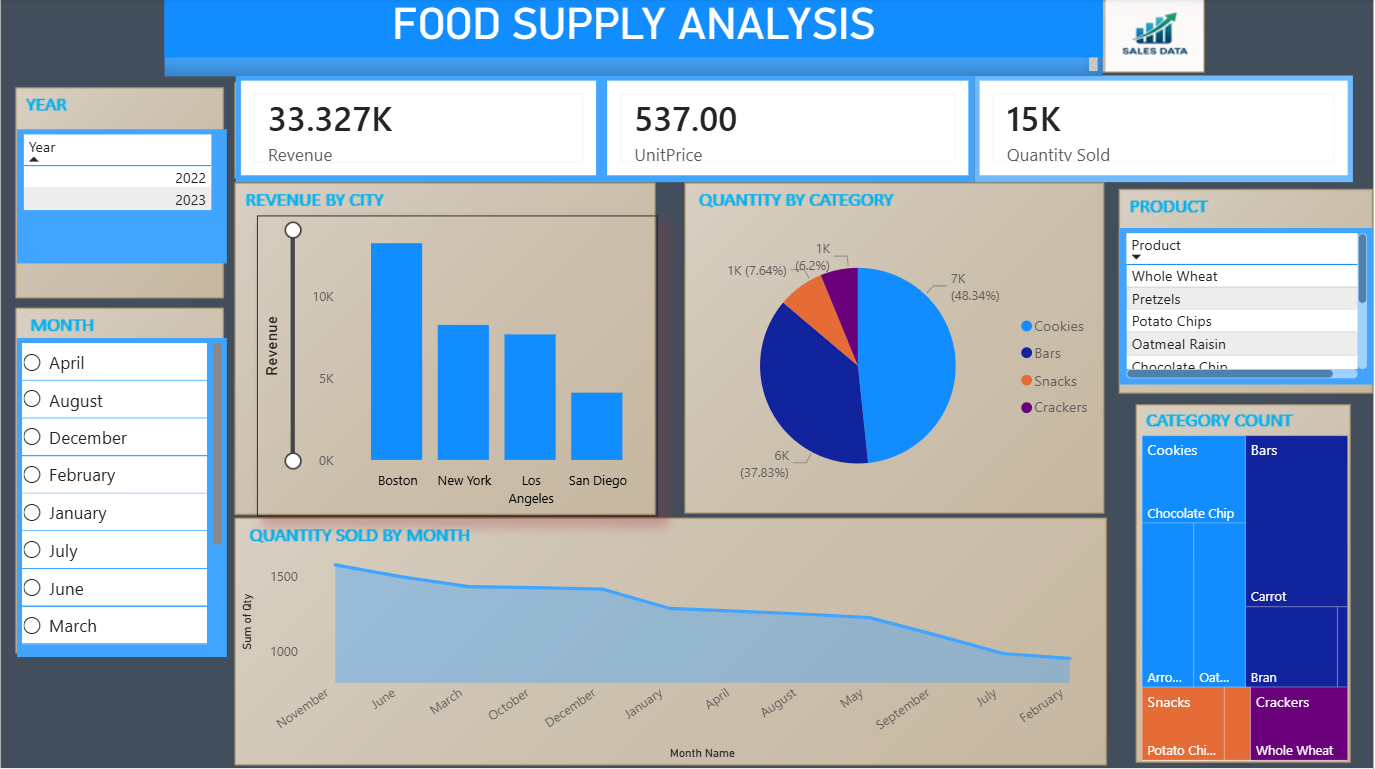

This screenshot's page, from the dashboard's own definition file:
{"tool":"powerbi","page":{"name":"Page 2","canvas":[1280,720],"ordinal":0},"visuals":[{"type":"listSlicer","fields":{"Values":["FOOD SUPPLY ANALYSIS.Month Name"]},"box":[19,316.7,195.2,296.4],"z":0},{"type":"tableEx","fields":{"Values":["FOOD SUPPLY ANALYSIS.Date.Variation.Date Hierarchy.Year"]},"box":[19,122.6,195.2,125],"z":1000},{"type":"lineClusteredColumnComboChart","fields":{"Category":["FOOD SUPPLY ANALYSIS.City"],"Y":["Sum(FOOD SUPPLY ANALYSIS.TotalPrice)"]},"box":[241.7,202.4,372.6,279.8],"z":2000},{"type":"pieChart","title":"Quantity by Category","fields":{"Y":["Sum(FOOD SUPPLY ANALYSIS.Qty)"],"Category":["FOOD SUPPLY ANALYSIS.Category"]},"box":[645.2,202.4,383.3,279.8],"z":3000},{"type":"lineStackedColumnComboChart","fields":{"Category":["FOOD SUPPLY ANALYSIS.Month Name"],"Y2":["Sum(FOOD SUPPLY ANALYSIS.Qty)"]},"box":[222.6,510.7,806,203.6],"z":4000},{"type":"cardVisual","fields":{"Data":["Sum(FOOD SUPPLY ANALYSIS.TotalPrice)"]},"box":[222.6,72.6,340.5,98.8],"z":5000},{"type":"cardVisual","fields":{"Data":["Sum(FOOD SUPPLY ANALYSIS.UnitPrice)"]},"box":[563.1,72.6,346.4,98.8],"z":6000},{"type":"cardVisual","fields":{"Data":["Sum(FOOD SUPPLY ANALYSIS.Qty)"]},"box":[909.5,72.6,352.4,98.8],"z":7000},{"type":"treemap","fields":{"Group":["FOOD SUPPLY ANALYSIS.Category"],"Values":["CountNonNull(FOOD SUPPLY ANALYSIS.Category)"],"Details":["FOOD SUPPLY ANALYSIS.Product"]},"box":[1060.7,402.4,201.2,311.9],"z":8000},{"type":"tableEx","fields":{"Values":["FOOD SUPPLY ANALYSIS.Product"]},"box":[1044,214.3,235.7,145.2],"z":9000},{"type":"textbox","title":"FOOD SUPPLY ANALYSIS","box":[156,0,872.6,72.6],"z":10000}]}

Visuals, with their boxes in screenshot pixels (x1, y1, x2, y2), scaled from the page's 1280x720 canvas onto the 1375x769 screenshot:
listSlicer - FOOD SUPPLY ANALYSIS.Month Name: [20,338,230,655]
tableEx - FOOD SUPPLY ANALYSIS.Date.Variation.Date Hierarchy.Year: [20,131,230,264]
lineClusteredColumnComboChart - FOOD SUPPLY ANALYSIS.City x Sum(FOOD SUPPLY ANALYSIS.TotalPrice): [260,216,660,515]
"Quantity by Category" pieChart: [693,216,1105,515]
lineStackedColumnComboChart - FOOD SUPPLY ANALYSIS.Month Name x Sum(FOOD SUPPLY ANALYSIS.Qty): [239,545,1105,763]
cardVisual - Sum(FOOD SUPPLY ANALYSIS.TotalPrice): [239,78,605,183]
cardVisual - Sum(FOOD SUPPLY ANALYSIS.UnitPrice): [605,78,977,183]
cardVisual - Sum(FOOD SUPPLY ANALYSIS.Qty): [977,78,1356,183]
treemap - FOOD SUPPLY ANALYSIS.Category x CountNonNull(FOOD SUPPLY ANALYSIS.Category): [1139,430,1356,763]
tableEx - FOOD SUPPLY ANALYSIS.Product: [1121,229,1374,384]
"FOOD SUPPLY ANALYSIS" textbox: [168,0,1105,78]
